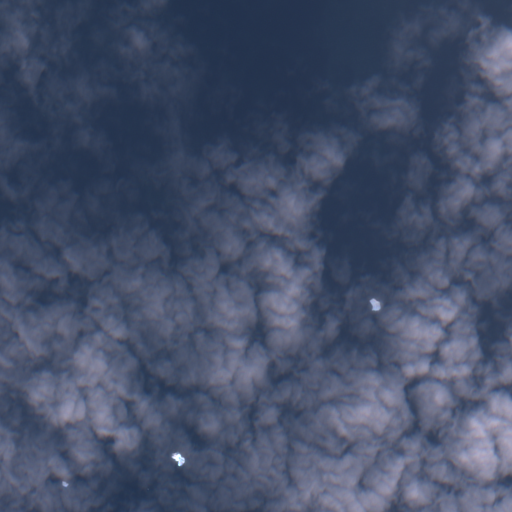Iceberg: (172, 453, 184, 465), (370, 299, 380, 310), (62, 481, 68, 486)
